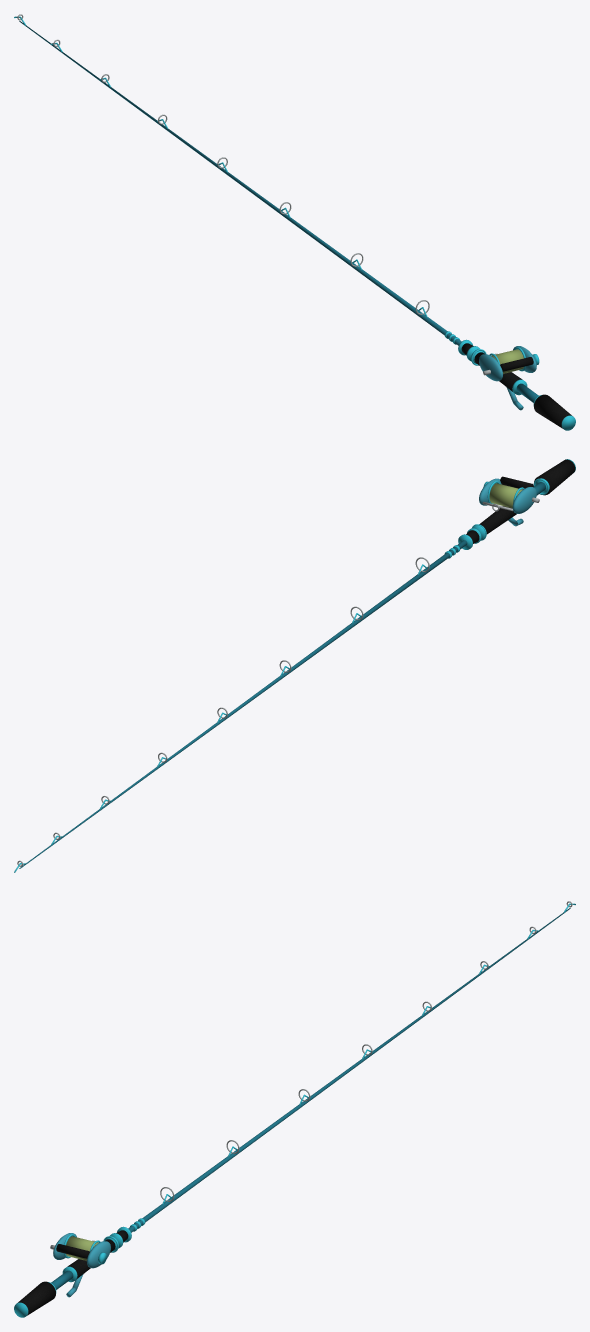
File: kingfisher_lure.glb
3 renders of one model, top to bottom at view 1: azimuth 30°, elevation 25°; view 2: azimuth 150°, elevation 25°; view 3: azimuth 330°, elevation 25°, orthographic.
Visible parts, largest first — view 1: Fast action blank.007; view 2: Fast action blank.007; view 3: Fast action blank.007.
Boxes of the visible parts, box(x1,y1,x2,y2) form: Fast action blank.007: box(14, 14, 575, 430); Fast action blank.007: box(14, 459, 575, 872); Fast action blank.007: box(14, 901, 575, 1317).
Size of the model in its own units: 0.106 by 0.0943 by 1.94.
6 materials, 1 textured.
